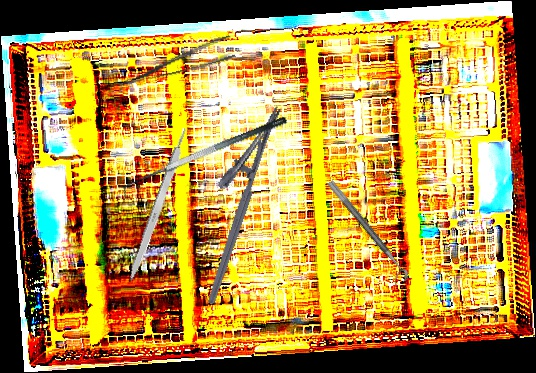Dressing Forceps: (117, 34, 237, 88)
Fixation Ring: (318, 179, 412, 288)
Needle Holder: (179, 95, 284, 306)
Scalpel Handle: (125, 126, 193, 285)
Spatula Surgical: (115, 115, 294, 202)
